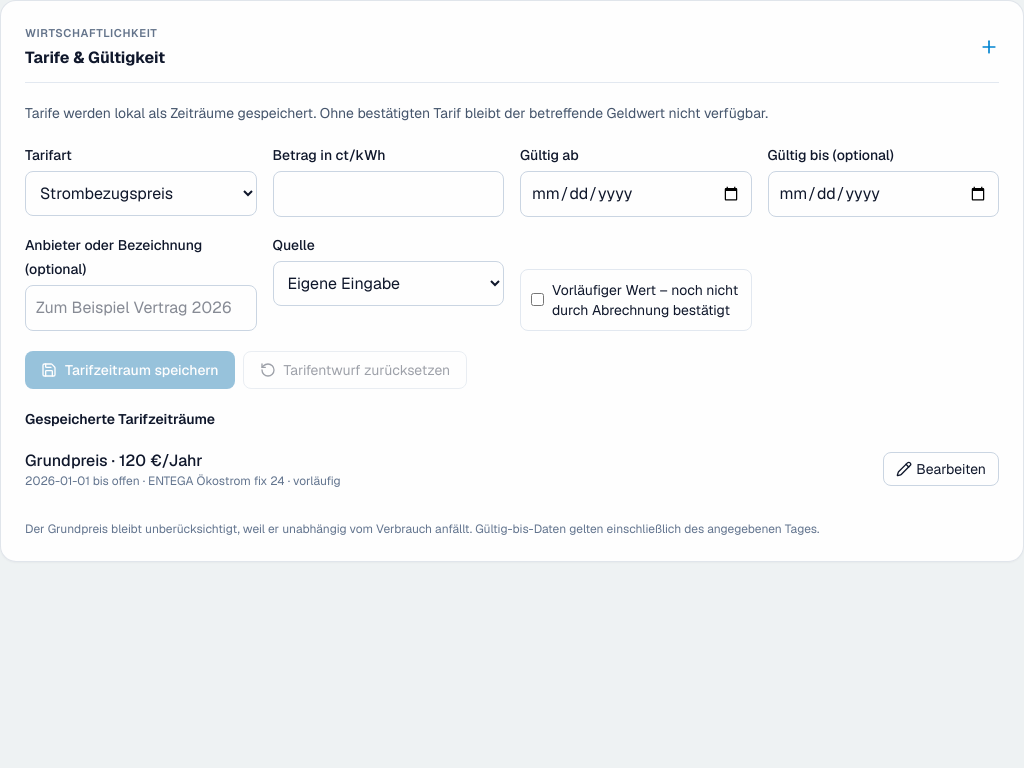
Scenario: TariffSettings › lists and edits an open-ended provisional base-price period
expect the text "Grundpreis · 120 €/Jahr" is shown: met, box [25,450,202,471]
expect the text "2026-01-01 bis offen · ENTEGA Ökostrom fix 24 · vorläufig" is shown: met, box [25,473,341,489]
Click the button "Bearbeiten". click: point(941, 469)
box: [883,452,999,486]
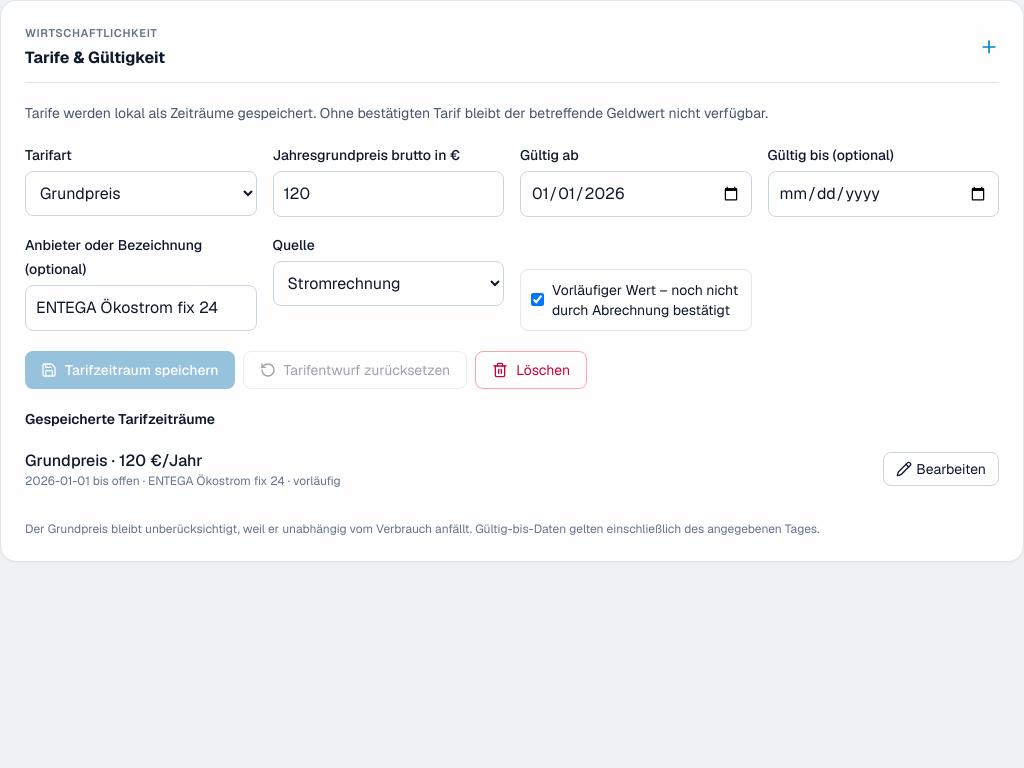
expect the dropdown labelled "Tarifart" shows "Grundpreis": met, box [25,171,256,216]
expect the number field labelled "Jahresgrundpreis brutto in €" holds "120": met, box [272,171,504,217]
